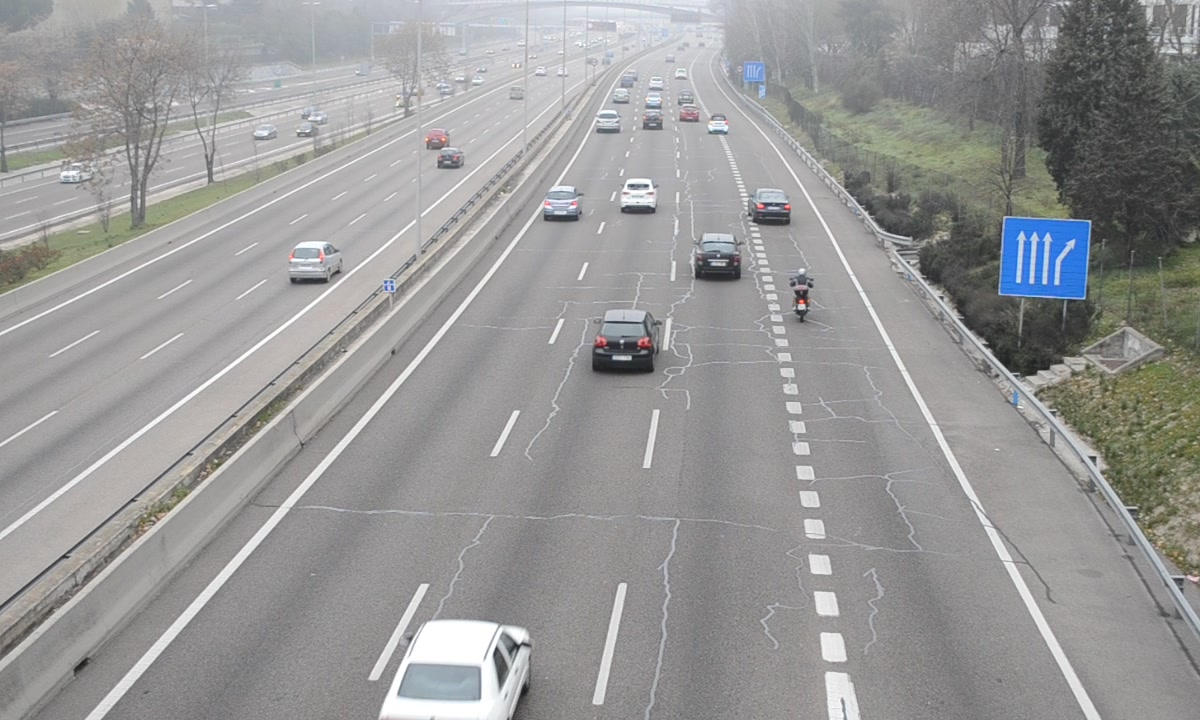car: (381, 619, 531, 718), (594, 308, 661, 370), (692, 235, 744, 284), (748, 186, 792, 225), (620, 179, 659, 213), (544, 186, 583, 220), (594, 108, 620, 133), (708, 112, 729, 136)
motorcycle: (789, 266, 815, 325)
